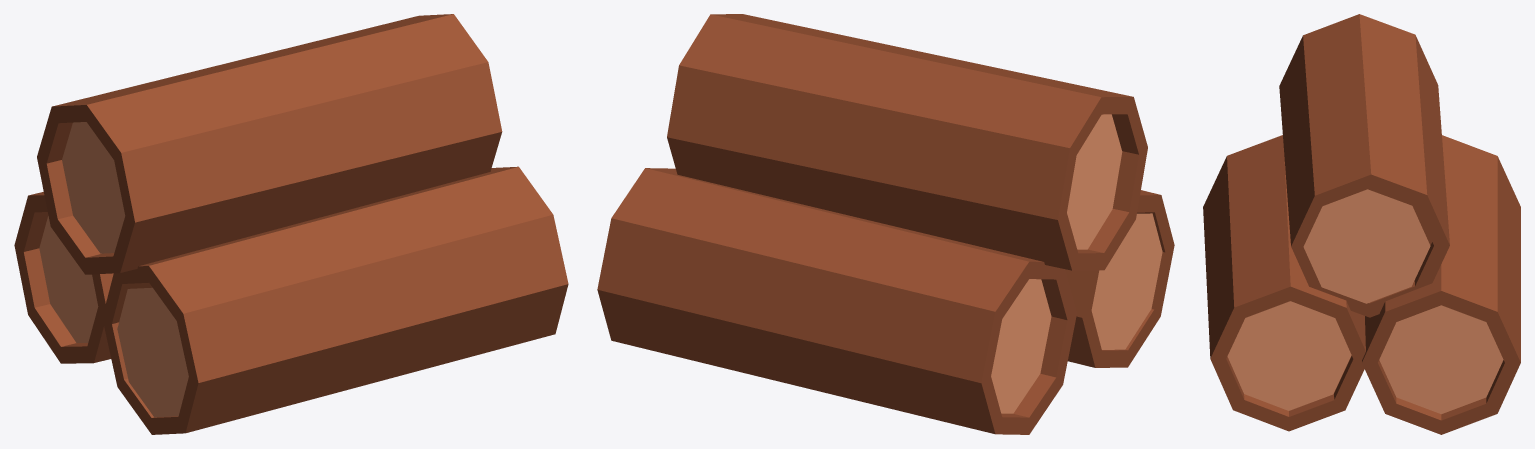
The model's file is log1.fbx.
The picture shows the model from 3 angles, left to right: view 1: azimuth 30°, elevation 25°; view 2: azimuth 150°, elevation 25°; view 3: azimuth 270°, elevation 25°; orthographic projection. The views are drawn at different scales.
Visible parts, largest first — view 1: Cylinder.004, Cylinder.002, Cylinder.003, Cylinder, Cylinder.005, Cylinder.001; view 2: Cylinder, Cylinder.004, Cylinder.003, Cylinder.002, Cylinder.001, Cylinder.005; view 3: Cylinder.004, Cylinder.002, Cylinder, Cylinder.006, Cylinder.007, Cylinder.008.
Part boxes in pixels (box(x1,y1,x2,y2)): Cylinder.004: box(37, 14, 502, 274); Cylinder.002: box(102, 166, 568, 434); Cylinder.003: box(117, 287, 188, 417); Cylinder: box(14, 192, 113, 363); Cylinder.005: box(62, 122, 125, 253); Cylinder.001: box(39, 216, 98, 342); Cylinder: box(597, 168, 1076, 434); Cylinder.004: box(667, 14, 1147, 270); Cylinder.003: box(1091, 213, 1162, 349); Cylinder.002: box(1065, 190, 1174, 367); Cylinder.001: box(991, 279, 1051, 413); Cylinder.005: box(1067, 114, 1122, 249); Cylinder.004: box(1279, 14, 1449, 317); Cylinder.002: box(1203, 135, 1365, 431); Cylinder: box(1362, 135, 1520, 434); Cylinder.006: box(1303, 189, 1430, 303); Cylinder.007: box(1227, 301, 1351, 410); Cylinder.008: box(1379, 305, 1503, 414).
Bounding box in the file's own units: 320 × 231 × 258.
